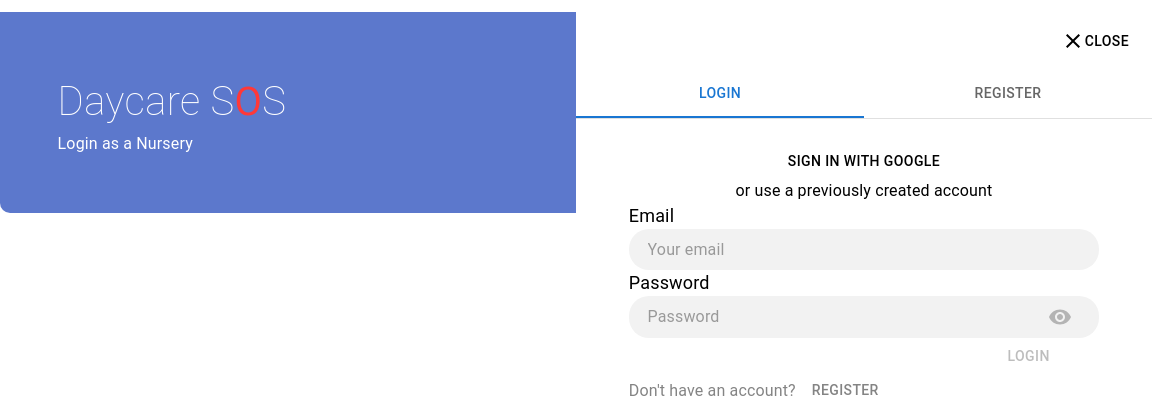
changes from login to register
Click the tab "Register" at (1008, 94), box [864,70,1152,118]
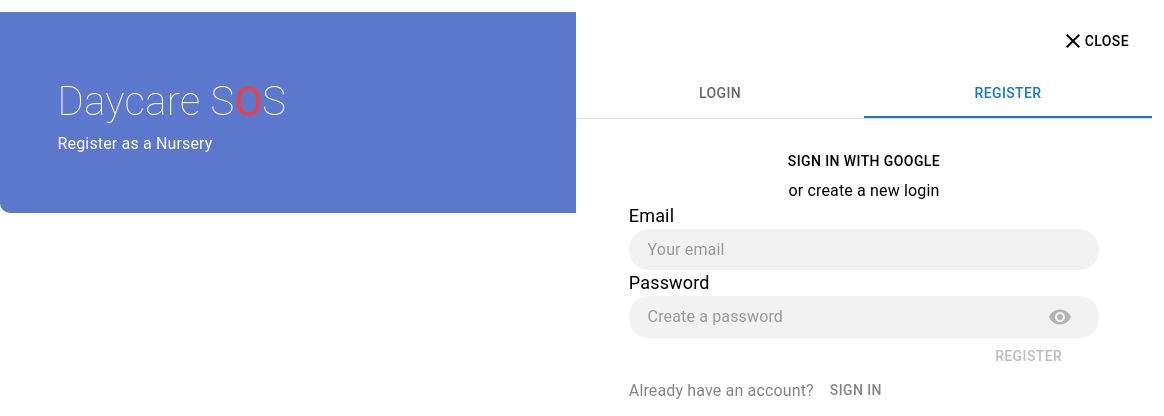
Check: the text "or create a new login" is shown, box [788,181,939,200]
Click the tab "Login" at (720, 94), box [576,70,864,118]
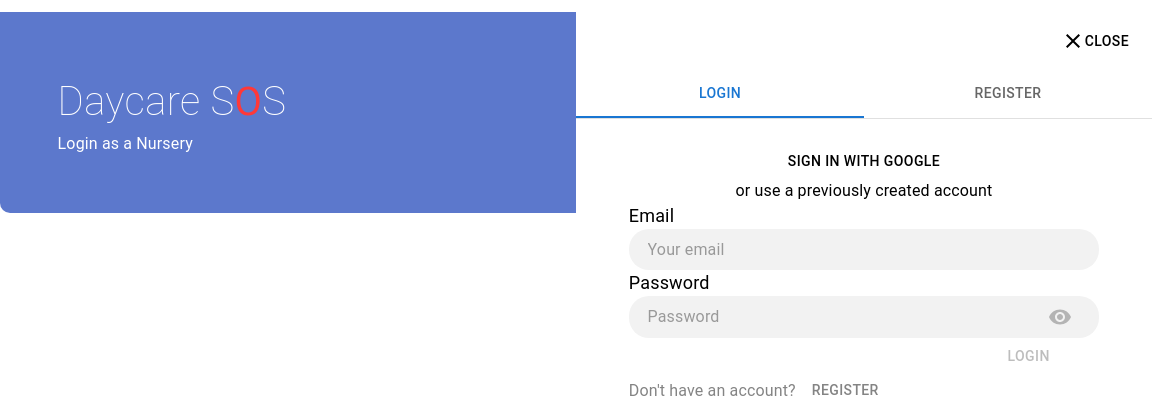
Check: the text "or use a previously created account" is shown, box [736,181,992,200]
Check: the text "or create a new login" is gone
